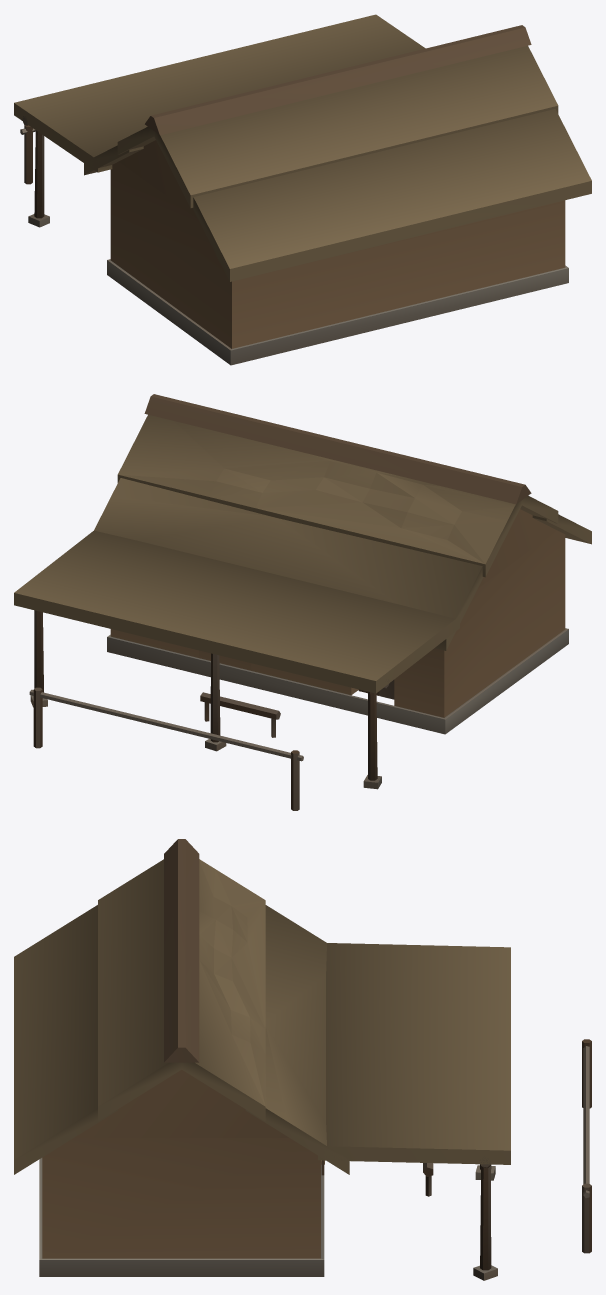
File: casa_pulperia_a_lod.glb
3 renders of one model, top to bottom at view 1: azimuth 30°, elevation 25°; view 2: azimuth 150°, elevation 25°; view 3: azimuth 270°, elevation 25°, orthographic. The views are drawn at different scales.
Parts seen in each view (by area): view 1: casa_pulperia_a; view 2: casa_pulperia_a; view 3: casa_pulperia_a.
Boxes of the visible parts, x1,y1,x2,y2 form: casa_pulperia_a: (14, 14, 591, 365); casa_pulperia_a: (14, 394, 591, 810); casa_pulperia_a: (14, 839, 591, 1280).
Bounding box in the file's own units: 7.8 × 4.16 × 9.13.
